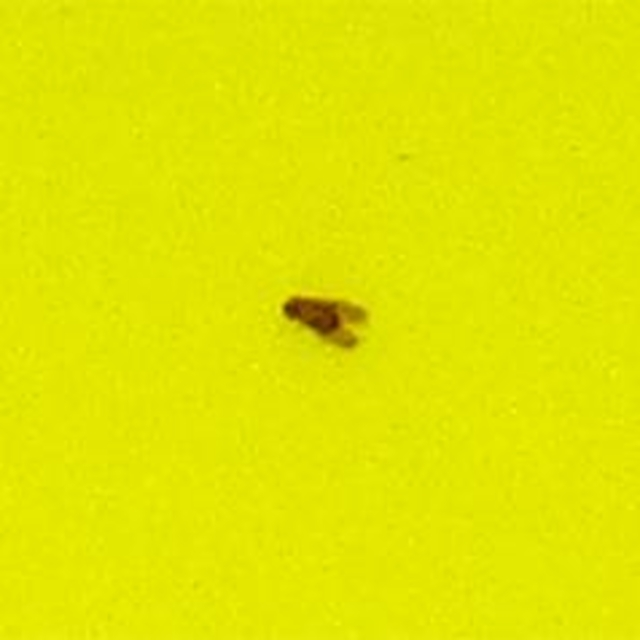Brachycera: (269, 290, 371, 350)
